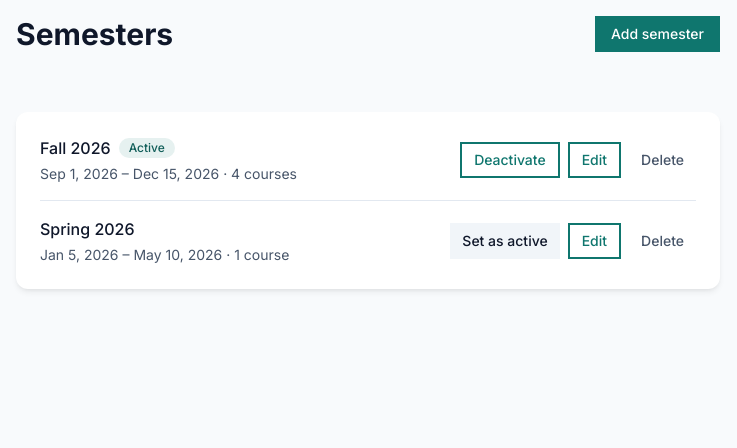
Test: SemestersPage create and edit (AC 2, AC 3) › edits a row through the pre-filled form; on success the list re-reads
Click the button with aria-label "edit fall 2026". click: [594, 160]
box: [568,142,621,178]
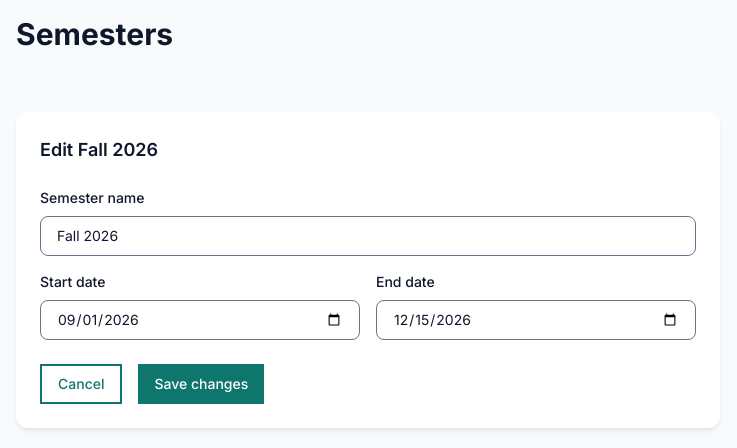
Check: the field labelled "Semester name" holds "Fall 2026"
Type "Fall 2026 (updated)" into the field labelled "Semester name". click: [368, 236]
box: [40,216,696,256]
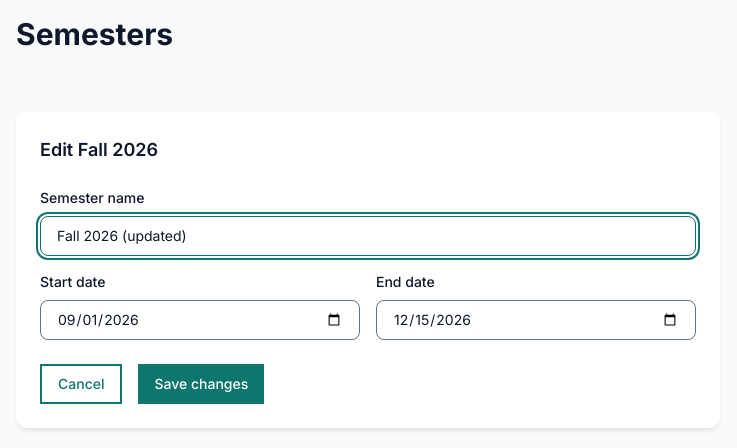
Click the button "Save changes". click: [201, 384]
box: [138,364,264,404]
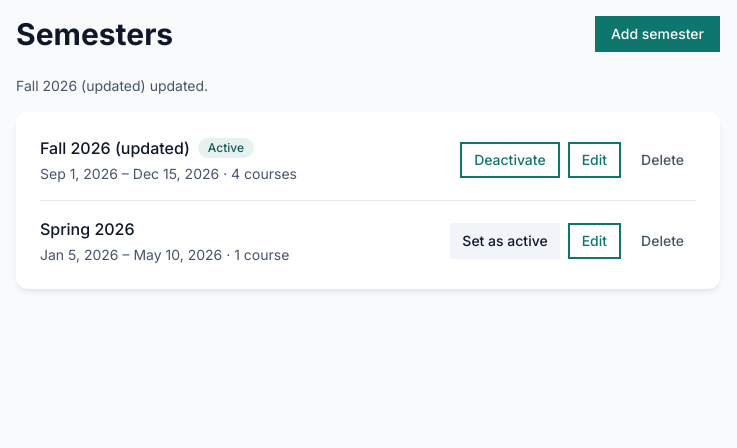
Check: the list item that starts with "Fall 2026 (updated)" is shown, box [40,138,190,158]
Check: the message reads "Fall 2026 (updated) updated.", box [16,77,208,94]
